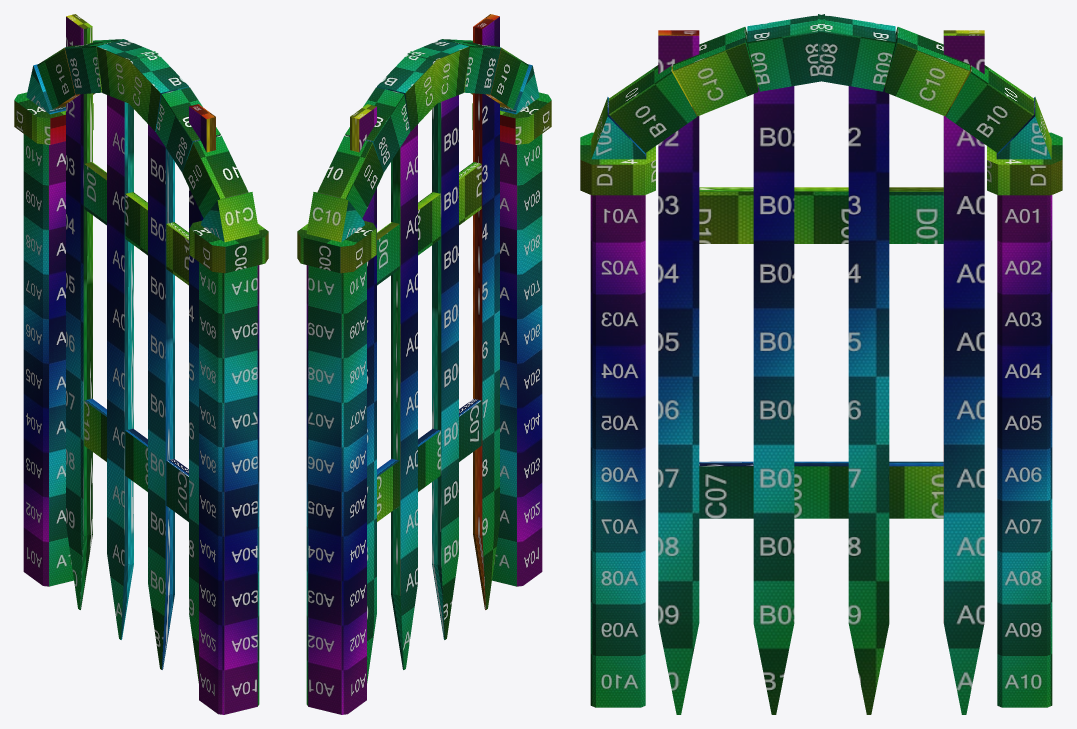
Rendered from castle_.fbx.
The picture shows the model from 3 angles, left to right: view 1: azimuth 30°, elevation 25°; view 2: azimuth 150°, elevation 25°; view 3: azimuth 270°, elevation 25°; orthographic projection. The views are drawn at different scales.
Visible parts, largest first — view 1: gateFrame, gate; view 2: gateFrame, gate; view 3: gate, gateFrame.
Boxes of the visible parts, x1=… form: gateFrame: x1=14, y1=39, x2=268, y2=714; gate: x1=66, y1=14, x2=215, y2=682; gateFrame: x1=297, y1=39, x2=551, y2=714; gate: x1=350, y1=14, x2=499, y2=682; gate: x1=658, y1=30, x2=984, y2=714; gateFrame: x1=580, y1=14, x2=1062, y2=707.
Size of the model in its own units: 300 by 3042 by 1915.
